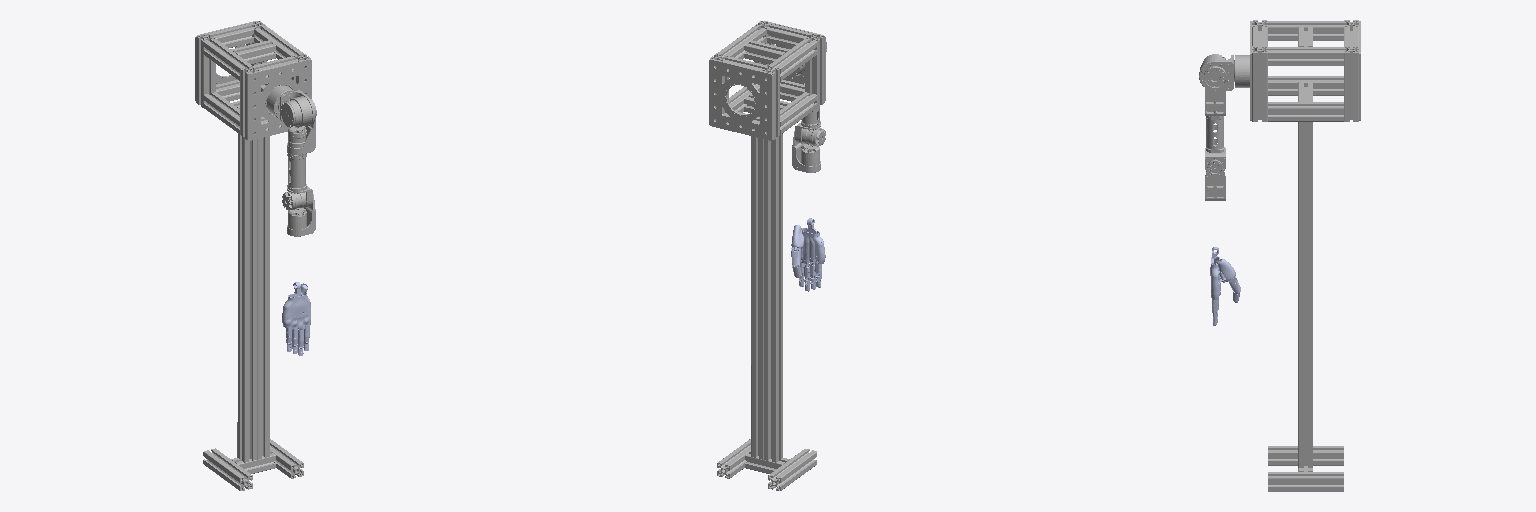
--- What the picture shows (computed from the rendered views, not written in the file) ---
3 views of the same robot in one strip: view 1: azimuth 30°, elevation 25°; view 2: azimuth 150°, elevation 25°; view 3: azimuth 270°, elevation 25° (orthographic).
Robot: sixArmHand — 22 links, 21 joints (21 revolute); root link base_link; default pose: every joint at zero.
Visible links, largest first — view 1: base_link, shoulderYaw_Link, shoulderPitch_Link, wristPitch_Link, shoulderRoll_Link, elbowRoll_Link; view 2: base_link, shoulderYaw_Link, elbowRoll_Link, wristPitch_Link; view 3: base_link, shoulderRoll_Link, shoulderYaw_Link, elbowRoll_Link, shoulderPitch_Link.
Boxes of the visible links, <box> form: base_link: <box>195,21,311,490</box>; shoulderYaw_Link: <box>282,152,312,210</box>; shoulderPitch_Link: <box>280,90,314,127</box>; wristPitch_Link: <box>282,282,310,329</box>; shoulderRoll_Link: <box>287,99,316,154</box>; elbowRoll_Link: <box>287,194,315,236</box>; base_link: <box>709,21,825,490</box>; shoulderYaw_Link: <box>795,107,825,146</box>; elbowRoll_Link: <box>792,131,820,172</box>; wristPitch_Link: <box>801,218,825,264</box>; base_link: <box>1234,20,1360,491</box>; shoulderRoll_Link: <box>1204,66,1226,115</box>; shoulderYaw_Link: <box>1205,116,1225,170</box>; elbowRoll_Link: <box>1205,160,1225,200</box>; shoulderPitch_Link: <box>1199,54,1233,90</box>.
Size in the robot's own frame: 0.2001 by 0.425 by 1.27 metres.
21 mesh visuals loaded from 22 distinct referenced files (21 binary STL); not drawn: 1 (reference not matched to a file when rendering).

The robot description file, URDF, robot "sixArmHand":
<?xml version="1.0" encoding="utf-8"?>
<!-- This URDF was automatically created by SolidWorks to URDF Exporter! Originally created by Stephen Brawner ([email redacted]) 
     Commit Version: 1.5.1-0-g916b5db  Build Version: 1.5.7152.31018
     For more information, please see http://wiki.ros.org/sw_urdf_exporter -->
<robot
  name="sixArmHand">
  <link
    name="base_link">
    <inertial>
      <origin
        xyz="6.3562527179902E-05 -0.00590971793251037 0.843647614040915"
        rpy="0 0 0" />
      <mass
        value="10.6875075459949" />
      <inertia
        ixx="0.369166290134353"
        ixy="-1.09800431762322E-08"
        ixz="-2.65717180673806E-05"
        iyy="0.366929421492863"
        iyz="-4.40923295784043E-11"
        izz="0.0155303148832649" />
    </inertial>
    <visual>
      <origin
        xyz="0 0 0"
        rpy="0 0 0" />
      <geometry>
        <mesh
          filename="package://sixArmHand/meshes/base_link.STL" />
      </geometry>
      <material
        name="">
        <color
          rgba="0.752941176470588 0.752941176470588 0.752941176470588 1" />
      </material>
    </visual>
    <collision>
      <origin
        xyz="0 0 0"
        rpy="0 0 0" />
      <geometry>
        <mesh
          filename="package://sixArmHand/meshes/base_link.STL" />
      </geometry>
    </collision>
  </link>
  <link
    name="shoulderPitch_Link">
    <inertial>
      <origin
        xyz="0.00564619322967518 -0.0388011617673537 2.59837315486067E-06"
        rpy="0 0 0" />
      <mass
        value="0.46726632049004" />
      <inertia
        ixx="0.000399813771841688"
        ixy="3.18591804143914E-05"
        ixz="-5.46038795579012E-10"
        iyy="0.00028754222084699"
        iyz="1.36442767870995E-06"
        izz="0.000254117183590909" />
    </inertial>
    <visual>
      <origin
        xyz="0 0 0"
        rpy="0 0 0" />
      <geometry>
        <mesh
          filename="package://sixArmHand/meshes/shoulderPitch_Link.STL" />
      </geometry>
      <material
        name="">
        <color
          rgba="0.752941176470588 0.752941176470588 0.752941176470588 1" />
      </material>
    </visual>
    <collision>
      <origin
        xyz="0 0 0"
        rpy="0 0 0" />
      <geometry>
        <mesh
          filename="package://sixArmHand/meshes/shoulderPitch_Link.STL" />
      </geometry>
    </collision>
  </link>
  <joint
    name="shoulderPitch"
    type="revolute">
    <origin
      xyz="8.8679E-05 -0.185 1.18"
      rpy="0 0 0" />
    <parent
      link="base_link" />
    <child
      link="shoulderPitch_Link" />
    <axis
      xyz="0 -1 0" />
    <limit
      lower="0"
      upper="0"
      effort="0"
      velocity="0" />
  </joint>
  <link
    name="shoulderRoll_Link">
    <inertial>
      <origin
        xyz="-0.0199126166365459 2.89601151149954E-05 -0.0740087713535413"
        rpy="0 0 0" />
      <mass
        value="0.419772107473911" />
      <inertia
        ixx="0.000433353050610292"
        ixy="-2.69038724505281E-07"
        ixz="-6.24263594181734E-05"
        iyy="0.000408481342435734"
        iyz="-1.66550940469567E-08"
        izz="0.000192251180848283" />
    </inertial>
    <visual>
      <origin
        xyz="0 0 0"
        rpy="0 0 0" />
      <geometry>
        <mesh
          filename="package://sixArmHand/meshes/shoulderRoll_Link.STL" />
      </geometry>
      <material
        name="">
        <color
          rgba="0.752941176470588 0.752941176470588 0.752941176470588 1" />
      </material>
    </visual>
    <collision>
      <origin
        xyz="0 0 0"
        rpy="0 0 0" />
      <geometry>
        <mesh
          filename="package://sixArmHand/meshes/shoulderRoll_Link.STL" />
      </geometry>
    </collision>
  </link>
  <joint
    name="shoulderRoll"
    type="revolute">
    <origin
      xyz="0.035 -0.052 0"
      rpy="0 0 0" />
    <parent
      link="shoulderPitch_Link" />
    <child
      link="shoulderRoll_Link" />
    <axis
      xyz="-1 0 0" />
    <limit
      lower="0"
      upper="0"
      effort="0"
      velocity="0" />
  </joint>
  <link
    name="shoulderYaw_Link">
    <inertial>
      <origin
        xyz="0.00656055179830629 2.90440103517531E-06 -0.10861093303565"
        rpy="0 0 0" />
      <mass
        value="0.403452087830578" />
      <inertia
        ixx="0.000244599346494787"
        ixy="1.67313795390288E-08"
        ixz="8.78933058031097E-06"
        iyy="0.000203262269064636"
        iyz="-7.30893918984527E-07"
        izz="0.000136352484194931" />
    </inertial>
    <visual>
      <origin
        xyz="0 0 0"
        rpy="0 0 0" />
      <geometry>
        <mesh
          filename="package://sixArmHand/meshes/shoulderYaw_Link.STL" />
      </geometry>
      <material
        name="">
        <color
          rgba="0.752941176470588 0.752941176470588 0.752941176470588 1" />
      </material>
    </visual>
    <collision>
      <origin
        xyz="0 0 0"
        rpy="0 0 0" />
      <geometry>
        <mesh
          filename="package://sixArmHand/meshes/shoulderYaw_Link.STL" />
      </geometry>
    </collision>
  </link>
  <joint
    name="shoulderYaw"
    type="revolute">
    <origin
      xyz="-0.035009 0 -0.116"
      rpy="0 0 0" />
    <parent
      link="shoulderRoll_Link" />
    <child
      link="shoulderYaw_Link" />
    <axis
      xyz="0 0 -1" />
    <limit
      lower="0"
      upper="0"
      effort="0"
      velocity="0" />
  </joint>
  <link
    name="elbowRoll_Link">
    <inertial>
      <origin
        xyz="-0.00738820409777829 -1.00321901477796E-06 -0.0593095691808454"
        rpy="0 0 0" />
      <mass
        value="0.151796397464374" />
      <inertia
        ixx="0.000189801415883418"
        ixy="-3.17669130469068E-10"
        ixz="-3.78850276737954E-05"
        iyy="0.000182437215525365"
        iyz="-1.37670316430067E-09"
        izz="8.44118119449699E-05" />
    </inertial>
    <visual>
      <origin
        xyz="0 0 0"
        rpy="0 0 0" />
      <geometry>
        <mesh
          filename="package://sixArmHand/meshes/elbowRoll_Link.STL" />
      </geometry>
      <material
        name="">
        <color
          rgba="0.752941176470588 0.752941176470588 0.752941176470588 1" />
      </material>
    </visual>
    <collision>
      <origin
        xyz="0 0 0"
        rpy="0 0 0" />
      <geometry>
        <mesh
          filename="package://sixArmHand/meshes/elbowRoll_Link.STL" />
      </geometry>
    </collision>
  </link>
  <joint
    name="elbowRoll"
    type="revolute">
    <origin
      xyz="0.034989 0 -0.144"
      rpy="0 0 0" />
    <parent
      link="shoulderYaw_Link" />
    <child
      link="elbowRoll_Link" />
    <axis
      xyz="-1 0 0" />
    <limit
      lower="0"
      upper="0"
      effort="0"
      velocity="0" />
  </joint>
  <link
    name="wristYaw_Link">
    <inertial>
      <origin
        xyz="-0.0110072042858961 9.00744748022486E-06 -0.0919568730668572"
        rpy="0 0 0" />
      <mass
        value="0.335351440910377" />
      <inertia
        ixx="0.000196408493546082"
        ixy="6.85439502098526E-08"
        ixz="-6.68611866426507E-07"
        iyy="0.000192751420074017"
        iyz="4.5521068979922E-08"
        izz="0.000114531535457464" />
    </inertial>
    <visual>
      <origin
        xyz="0 0 0"
        rpy="0 0 0" />
      <geometry>
        <mesh
          filename="package://sixArmHand/meshes/wristYaw_Link.STL" />
      </geometry>
      <material
        name="">
        <color
          rgba="0.752941176470588 0.752941176470588 0.752941176470588 1" />
      </material>
    </visual>
    <collision>
      <origin
        xyz="0 0 0"
        rpy="0 0 0" />
      <geometry>
        <mesh
          filename="package://sixArmHand/meshes/wristYaw_Link.STL" />
      </geometry>
    </collision>
  </link>
  <joint
    name="wristYaw"
    type="revolute">
    <origin
      xyz="-0.035008 0 -0.101"
      rpy="0 0 0" />
    <parent
      link="elbowRoll_Link" />
    <child
      link="wristYaw_Link" />
    <axis
      xyz="0 0 1" />
    <limit
      lower="0"
      upper="0"
      effort="0"
      velocity="0" />
  </joint>
  <link
    name="wristPitch_Link">
    <inertial>
      <origin
        xyz="0.000861733289080682 0.0016812764550127 -0.0745105520843234"
        rpy="0 0 0" />
      <mass
        value="0.0799816292892163" />
      <inertia
        ixx="2.50894522854529E-05"
        ixy="-1.27452216950587E-07"
        ixz="1.3290884331058E-06"
        iyy="3.68917834676378E-05"
        iyz="-3.66388617266229E-09"
        izz="1.4492968393251E-05" />
    </inertial>
    <visual>
      <origin
        xyz="0 0 0"
        rpy="0 0 0" />
      <geometry>
        <mesh
          filename="package://sixArmHand/meshes/wristPitch_Link.STL" />
      </geometry>
      <material
        name="">
        <color
          rgba="0.792156862745098 0.819607843137255 0.933333333333333 1" />
      </material>
    </visual>
    <collision>
      <origin
        xyz="0 0 0"
        rpy="0 0 0" />
      <geometry>
        <mesh
          filename="package://sixArmHand/meshes/wristPitch_Link.STL" />
      </geometry>
    </collision>
  </link>
  <joint
    name="wristPitch"
    type="revolute">
    <origin
      xyz="-1.1949E-05 0 -0.159"
      rpy="0 0 0" />
    <parent
      link="wristYaw_Link" />
    <child
      link="wristPitch_Link" />
    <axis
      xyz="-1 0 0" />
    <limit
      lower="0"
      upper="0"
      effort="0"
      velocity="0" />
  </joint>
  <link
    name="CMCXX_Link">
    <inertial>
      <origin
        xyz="-0.00686726816752589 0.0140780721129675 0.00981142675345359"
        rpy="0 0 0" />
      <mass
        value="0.024499897749101" />
      <inertia
        ixx="5.53070326477826E-06"
        ixy="9.08262139239753E-08"
        ixz="-1.29518804840443E-07"
        iyy="4.63806899598326E-06"
        iyz="9.03892420528738E-07"
        izz="1.75455470557498E-06" />
    </inertial>
    <visual>
      <origin
        xyz="0 0 0"
        rpy="0 0 0" />
      <geometry>
        <mesh
          filename="package://sixArmHand/meshes/CMCXX_Link.STL" />
      </geometry>
      <material
        name="">
        <color
          rgba="0.792156862745098 0.819607843137255 0.933333333333333 1" />
      </material>
    </visual>
    <collision>
      <origin
        xyz="0 0 0"
        rpy="0 0 0" />
      <geometry>
        <mesh
          filename="package://sixArmHand/meshes/CMCXX_Link.STL" />
      </geometry>
    </collision>
  </link>
  <joint
    name="CMCXX"
    type="revolute">
    <origin
      xyz="0.029304 0.018361 -0.06071"
      rpy="0.2618 0.17461 0" />
    <parent
      link="wristPitch_Link" />
    <child
      link="CMCXX_Link" />
    <axis
      xyz="0 0 -1" />
    <limit
      lower="0"
      upper="0"
      effort="0"
      velocity="0" />
  </joint>
  <link
    name="MCXX_Link">
    <inertial>
      <origin
        xyz="-0.0194043184012659 0.00700214256667242 -6.74830684764816E-05"
        rpy="0 0 0" />
      <mass
        value="0.011754229849431" />
      <inertia
        ixx="7.29057624653911E-07"
        ixy="5.00698001995572E-07"
        ixz="7.23401453610666E-09"
        iyy="1.57194618143418E-06"
        iyz="-3.24812131783767E-09"
        izz="1.63912335390482E-06" />
    </inertial>
    <visual>
      <origin
        xyz="0 0 0"
        rpy="0 0 0" />
      <geometry>
        <mesh
          filename="package://sixArmHand/meshes/MCXX_Link.STL" />
      </geometry>
      <material
        name="">
        <color
          rgba="0.792156862745098 0.819607843137255 0.933333333333333 1" />
      </material>
    </visual>
    <collision>
      <origin
        xyz="0 0 0"
        rpy="0 0 0" />
      <geometry>
        <mesh
          filename="package://sixArmHand/meshes/MCXX_Link.STL" />
      </geometry>
    </collision>
  </link>
  <joint
    name="MCXX"
    type="revolute">
    <origin
      xyz="-0.0071297 0.020958 -0.016239"
      rpy="-1.5708 -1.3043 1.7628" />
    <parent
      link="CMCXX_Link" />
    <child
      link="MCXX_Link" />
    <axis
      xyz="0 0 -1" />
    <limit
      lower="0"
      upper="0"
      effort="0"
      velocity="0" />
  </joint>
  <link
    name="DIPXX_Link">
    <inertial>
      <origin
        xyz="0.0175635726771348 -0.00214075595633695 -0.000834098286775109"
        rpy="0 0 0" />
      <mass
        value="0.00414583645243157" />
      <inertia
        ixx="1.34865192726364E-07"
        ixy="2.15174090959469E-08"
        ixz="-5.21798695756263E-09"
        iyy="4.1571728795326E-07"
        iyz="2.77385730813226E-10"
        izz="3.18396659804521E-07" />
    </inertial>
    <visual>
      <origin
        xyz="0 0 0"
        rpy="0 0 0" />
      <geometry>
        <mesh
          filename="package://sixArmHand/meshes/DIPXX_Link.STL" />
      </geometry>
      <material
        name="">
        <color
          rgba="0.792156862745098 0.819607843137255 0.933333333333333 1" />
      </material>
    </visual>
    <collision>
      <origin
        xyz="0 0 0"
        rpy="0 0 0" />
      <geometry>
        <mesh
          filename="package://sixArmHand/meshes/DIPXX_Link.STL" />
      </geometry>
    </collision>
  </link>
  <joint
    name="DIPXX"
    type="revolute">
    <origin
      xyz="-0.039877 0.013184 -0.00075"
      rpy="3.1416 0 -3.1416" />
    <parent
      link="MCXX_Link" />
    <child
      link="DIPXX_Link" />
    <axis
      xyz="0 0 -1" />
    <limit
      lower="0"
      upper="0"
      effort="0"
      velocity="0" />
  </joint>
  <link
    name="MCPFirstPitch_Link">
    <inertial>
      <origin
        xyz="-3.5994720111298E-05 0.000558365941395605 -0.0209824876083927"
        rpy="0 0 0" />
      <mass
        value="0.00422294438972412" />
      <inertia
        ixx="4.20193534270754E-07"
        ixy="-7.07215637016003E-10"
        ixz="2.48143462565004E-09"
        iyy="4.49745859832904E-07"
        iyz="-1.19967170913161E-08"
        izz="9.18449817266635E-08" />
    </inertial>
    <visual>
      <origin
        xyz="0 0 0"
        rpy="0 0 0" />
      <geometry>
        <mesh
          filename="package://sixArmHand/meshes/MCPFirstPitch_Link.STL" />
      </geometry>
      <material
        name="">
        <color
          rgba="0.792156862745098 0.819607843137255 0.933333333333333 1" />
      </material>
    </visual>
    <collision>
      <origin
        xyz="0 0 0"
        rpy="0 0 0" />
      <geometry>
        <mesh
          filename="package://sixArmHand/meshes/MCPFirstPitch_Link.STL" />
      </geometry>
    </collision>
  </link>
  <joint
    name="MCPFirstPitch"
    type="revolute">
    <origin
      xyz="0.028991 0 -0.117"
      rpy="0 0 0" />
    <parent
      link="wristPitch_Link" />
    <child
      link="MCPFirstPitch_Link" />
    <axis
      xyz="1 0 0" />
    <limit
      lower="0"
      upper="0"
      effort="0"
      velocity="0" />
  </joint>
  <link
    name="PIPFirstPitch_Link">
    <inertial>
      <origin
        xyz="4.78315139002677E-06 -0.000498217696923819 -0.00869400245624247"
        rpy="0 0 0" />
      <mass
        value="0.00215674304641878" />
      <inertia
        ixx="8.60904960368894E-08"
        ixy="2.6722587409329E-12"
        ixz="-1.80926938244238E-11"
        iyy="9.58672201831221E-08"
        iyz="1.72814058993956E-09"
        izz="4.3245271581415E-08" />
    </inertial>
    <visual>
      <origin
        xyz="0 0 0"
        rpy="0 0 0" />
      <geometry>
        <mesh
          filename="package://sixArmHand/meshes/PIPFirstPitch_Link.STL" />
      </geometry>
      <material
        name="">
        <color
          rgba="0.792156862745098 0.819607843137255 0.933333333333333 1" />
      </material>
    </visual>
    <collision>
      <origin
        xyz="0 0 0"
        rpy="0 0 0" />
      <geometry>
        <mesh
          filename="package://sixArmHand/meshes/PIPFirstPitch_Link.STL" />
      </geometry>
    </collision>
  </link>
  <joint
    name="PIPFirstPitch"
    type="revolute">
    <origin
      xyz="0 0.00044993 -0.039997"
      rpy="0 0 0" />
    <parent
      link="MCPFirstPitch_Link" />
    <child
      link="PIPFirstPitch_Link" />
    <axis
      xyz="-1 0 0" />
    <limit
      lower="0"
      upper="0"
      effort="0"
      velocity="0" />
  </joint>
  <link
    name="DIPFirstPitch_Link">
    <inertial>
      <origin
        xyz="-9.27453661033611E-07 -0.000508218924932802 -0.00863632266206432"
        rpy="0 0 0" />
      <mass
        value="0.00149494074524285" />
      <inertia
        ixx="6.41872663918503E-08"
        ixy="5.06726148144377E-12"
        ixz="-2.13884665551903E-13"
        iyy="7.82170719915641E-08"
        iyz="9.61540568787346E-10"
        izz="2.58321536074877E-08" />
    </inertial>
    <visual>
      <origin
        xyz="0 0 0"
        rpy="0 0 0" />
      <geometry>
        <mesh
          filename="package://sixArmHand/meshes/DIPFirstPitch_Link.STL" />
      </geometry>
      <material
        name="">
        <color
          rgba="0.792156862745098 0.819607843137255 0.933333333333333 1" />
      </material>
    </visual>
    <collision>
      <origin
        xyz="0 0 0"
        rpy="0 0 0" />
      <geometry>
        <mesh
          filename="package://sixArmHand/meshes/DIPFirstPitch_Link.STL" />
      </geometry>
    </collision>
  </link>
  <joint
    name="DIPFirstPitch"
    type="revolute">
    <origin
      xyz="0 0.00041158 -0.022996"
      rpy="0 0 0" />
    <parent
      link="PIPFirstPitch_Link" />
    <child
      link="DIPFirstPitch_Link" />
    <axis
      xyz="-1 0 0" />
    <limit
      lower="0"
      upper="0"
      effort="0"
      velocity="0" />
  </joint>
  <link
    name="MCPSecondPitch_Link">
    <inertial>
      <origin
        xyz="-3.5994825934001E-05 0.000284140611486794 -0.0209879920475703"
        rpy="0 0 0" />
      <mass
        value="0.00422294447928706" />
      <inertia
        ixx="4.20193571981658E-07"
        ixy="-6.74763708561799E-10"
        ixz="2.49046429643885E-09"
        iyy="4.49371276863409E-07"
        iyz="-1.66689985535371E-08"
        izz="9.22196055569579E-08" />
    </inertial>
    <visual>
      <origin
        xyz="0 0 0"
        rpy="0 0 0" />
      <geometry>
        <mesh
          filename="package://sixArmHand/meshes/MCPSecondPitch_Link.STL" />
      </geometry>
      <material
        name="">
        <color
          rgba="0.792156862745098 0.819607843137255 0.933333333333333 1" />
      </material>
    </visual>
    <collision>
      <origin
        xyz="0 0 0"
        rpy="0 0 0" />
      <geometry>
        <mesh
          filename="package://sixArmHand/meshes/MCPSecondPitch_Link.STL" />
      </geometry>
    </collision>
  </link>
  <joint
    name="MCPSecondPitch"
    type="revolute">
    <origin
      xyz="0.01099 0 -0.127"
      rpy="0 0 0" />
    <parent
      link="wristPitch_Link" />
    <child
      link="MCPSecondPitch_Link" />
    <axis
      xyz="1 0 0" />
    <limit
      lower="0"
      upper="0"
      effort="0"
      velocity="0" />
  </joint>
  <link
    name="PIPSecondPitch_Link">
    <inertial>
      <origin
        xyz="4.78340618327577E-06 -0.000498217725054179 -0.00869400289720274"
        rpy="0 0 0" />
      <mass
        value="0.00215674315990334" />
      <inertia
        ixx="8.6090500631659E-08"
        ixy="2.67444648982479E-12"
        ixz="-1.808980999725E-11"
        iyy="9.58672259532435E-08"
        iyz="1.72813837586447E-09"
        izz="4.32452761012241E-08" />
    </inertial>
    <visual>
      <origin
        xyz="0 0 0"
        rpy="0 0 0" />
      <geometry>
        <mesh
          filename="package://sixArmHand/meshes/PIPSecondPitch_Link.STL" />
      </geometry>
      <material
        name="">
        <color
          rgba="0.792156862745098 0.819607843137255 0.933333333333333 1" />
      </material>
    </visual>
    <collision>
      <origin
        xyz="0 0 0"
        rpy="0 0 0" />
      <geometry>
        <mesh
          filename="package://sixArmHand/meshes/PIPSecondPitch_Link.STL" />
      </geometry>
    </collision>
  </link>
  <joint
    name="PIPSecondPitch"
    type="revolute">
    <origin
      xyz="0 -7.2753E-05 -0.04"
      rpy="0 0 0" />
    <parent
      link="MCPSecondPitch_Link" />
    <child
      link="PIPSecondPitch_Link" />
    <axis
      xyz="-1 0 0" />
    <limit
      lower="0"
      upper="0"
      effort="0"
      velocity="0" />
  </joint>
  <link
    name="DIPSecondPitch_Link">
    <inertial>
      <origin
        xyz="-9.27453660946875E-07 -0.000508218924699017 -0.00863632266205938"
        rpy="0 0 0" />
      <mass
        value="0.00149494074524285" />
      <inertia
        ixx="6.41872663918512E-08"
        ixy="5.06726148157971E-12"
        ixz="-2.13884665626898E-13"
        iyy="7.82170719915645E-08"
        iyz="9.61540568787026E-10"
        izz="2.5832153607487E-08" />
    </inertial>
    <visual>
      <origin
        xyz="0 0 0"
        rpy="0 0 0" />
      <geometry>
        <mesh
          filename="package://sixArmHand/meshes/DIPSecondPitch_Link.STL" />
      </geometry>
      <material
        name="">
        <color
          rgba="0.792156862745098 0.819607843137255 0.933333333333333 1" />
      </material>
    </visual>
    <collision>
      <origin
        xyz="0 0 0"
        rpy="0 0 0" />
      <geometry>
        <mesh
          filename="package://sixArmHand/meshes/DIPSecondPitch_Link.STL" />
      </geometry>
    </collision>
  </link>
  <joint
    name="DIPSecondPitch"
    type="revolute">
    <origin
      xyz="0 0.00041158 -0.022996"
      rpy="0 0 0" />
    <parent
      link="PIPSecondPitch_Link" />
    <child
      link="DIPSecondPitch_Link" />
    <axis
      xyz="-1 0 0" />
    <limit
      lower="0"
      upper="0"
      effort="0"
      velocity="0" />
  </joint>
  <link
    name="MCPThirdPitch_Link">
    <inertial>
      <origin
        xyz="-3.59947201113231E-05 0.000558365941430161 -0.0209824876083783"
        rpy="0 0 0" />
      <mass
        value="0.00422294438972405" />
      <inertia
        ixx="4.20193534270735E-07"
        ixy="-7.07215637015877E-10"
        ixz="2.48143462565172E-09"
        iyy="4.49745859832886E-07"
        iyz="-1.19967170913212E-08"
        izz="9.18449817266638E-08" />
    </inertial>
    <visual>
      <origin
        xyz="0 0 0"
        rpy="0 0 0" />
      <geometry>
        <mesh
          filename="package://sixArmHand/meshes/MCPThirdPitch_Link.STL" />
      </geometry>
      <material
        name="">
        <color
          rgba="0.792156862745098 0.819607843137255 0.933333333333333 1" />
      </material>
    </visual>
    <collision>
      <origin
        xyz="0 0 0"
        rpy="0 0 0" />
      <geometry>
        <mesh
          filename="package://sixArmHand/meshes/MCPThirdPitch_Link.STL" />
      </geometry>
    </collision>
  </link>
  <joint
    name="MCPThirdPitch"
    type="revolute">
    <origin
      xyz="-0.00700879270537467 0 -0.116999473609129"
      rpy="0 0 0" />
    <parent
      link="wristPitch_Link" />
    <child
      link="MCPThirdPitch_Link" />
    <axis
      xyz="1 0 0" />
    <limit
      lower="0"
      upper="0"
      effort="0"
      velocity="0" />
  </joint>
  <link
    name="PIPThirdPitch_Link">
    <inertial>
      <origin
        xyz="4.7815728599198E-06 -0.000498217579745386 -0.0086939995826098"
        rpy="0 0 0" />
      <mass
        value="0.00215674233408469" />
      <inertia
        ixx="8.60904657484076E-08"
        ixy="2.65945407217186E-12"
        ixz="-1.81117151826609E-11"
        iyy="9.58671819174496E-08"
        iyz="1.72815466220683E-09"
        izz="4.32452446499357E-08" />
    </inertial>
    <visual>
      <origin
        xyz="0 0 0"
        rpy="0 0 0" />
      <geometry>
        <mesh
          filename="package://sixArmHand/meshes/PIPThirdPitch_Link.STL" />
      </geometry>
      <material
        name="">
        <color
          rgba="0.792156862745098 0.819607843137255 0.933333333333333 1" />
      </material>
    </visual>
    <collision>
      <origin
        xyz="0 0 0"
        rpy="0 0 0" />
      <geometry>
        <mesh
          filename="package://sixArmHand/meshes/PIPThirdPitch_Link.STL" />
      </geometry>
    </collision>
  </link>
  <joint
    name="PIPThirdPitch"
    type="revolute">
    <origin
      xyz="0 0.00044993 -0.039997"
      rpy="0 0 0" />
    <parent
      link="MCPThirdPitch_Link" />
    <child
      link="PIPThirdPitch_Link" />
    <axis
      xyz="-1 0 0" />
    <limit
      lower="0"
      upper="0"
      effort="0"
      velocity="0" />
  </joint>
  <link
    name="DIPThirdPitch_Link">
    <inertial>
      <origin
        xyz="-9.27453660857537E-07 -0.000508218924755943 -0.00863632266206249"
        rpy="0 0 0" />
      <mass
        value="0.00149494074524283" />
      <inertia
        ixx="6.4187266391849E-08"
        ixy="5.06726148158765E-12"
        ixz="-2.13884665948821E-13"
        iyy="7.82170719915627E-08"
        iyz="9.61540568787658E-10"
        izz="2.58321536074867E-08" />
    </inertial>
    <visual>
      <origin
        xyz="0 0 0"
        rpy="0 0 0" />
      <geometry>
        <mesh
          filename="package://sixArmHand/meshes/DIPThirdPitch_Link.STL" />
      </geometry>
      <material
        name="">
        <color
          rgba="0.792156862745098 0.819607843137255 0.933333333333333 1" />
      </material>
    </visual>
    <collision>
      <origin
        xyz="0 0 0"
        rpy="0 0 0" />
      <geometry>
        <mesh
          filename="package://sixArmHand/meshes/DIPThirdPitch_Link.STL" />
      </geometry>
    </collision>
  </link>
  <joint
    name="DIPThirdPitch"
    type="revolute">
    <origin
      xyz="0 0.00041158 -0.022996"
      rpy="0 0 0" />
    <parent
      link="PIPThirdPitch_Link" />
    <child
      link="DIPThirdPitch_Link" />
    <axis
      xyz="-1 0 0" />
    <limit
      lower="0"
      upper="0"
      effort="0"
      velocity="0" />
  </joint>
  <link
    name="MCPFourthPitch_Link">
    <inertial>
      <origin
        xyz="-3.59943218010347E-05 0.00083272524861927 -0.0209733911034423"
        rpy="0 0 0" />
      <mass
        value="0.00422294431379341" />
      <inertia
        ixx="4.20193518935491E-07"
        ixy="-7.39573855135048E-10"
        ixz="2.47197735864419E-09"
        iyy="4.49998391653736E-07"
        iyz="-7.31241018481763E-09"
        izz="9.1592431962495E-08" />
    </inertial>
    <visual>
      <origin
        xyz="0 0 0"
        rpy="0 0 0" />
      <geometry>
        <mesh
          filename="package://sixArmHand/meshes/MCPFourthPitch_Link.STL" />
      </geometry>
      <material
        name="">
        <color
          rgba="0.792156862745098 0.819607843137255 0.933333333333333 1" />
      </material>
    </visual>
    <collision>
      <origin
        xyz="0 0 0"
        rpy="0 0 0" />
      <geometry>
        <mesh
          filename="package://sixArmHand/meshes/MCPFourthPitch_Link.STL" />
      </geometry>
    </collision>
  </link>
  <joint
    name="MCPFourthPitch"
    type="revolute">
    <origin
      xyz="-0.025008 0 -0.107"
      rpy="0 0 0" />
    <parent
      link="wristPitch_Link" />
    <child
      link="MCPFourthPitch_Link" />
    <axis
      xyz="1 0 0" />
    <limit
      lower="0"
      upper="0"
      effort="0"
      velocity="0" />
  </joint>
  <link
    name="PIPFourthPitch_Link">
    <inertial>
      <origin
        xyz="4.78120405220453E-06 -0.000498217559852132 -0.00869399884871536"
        rpy="0 0 0" />
      <mass
        value="0.0021567421655383" />
      <inertia
        ixx="8.60904580826341E-08"
        ixy="2.65655855870832E-12"
        ixz="-1.81167684111139E-11"
        iyy="9.58671723248921E-08"
        iyz="1.72815839657814E-09"
        izz="4.3245238535718E-08" />
    </inertial>
    <visual>
      <origin
        xyz="0 0 0"
        rpy="0 0 0" />
      <geometry>
        <mesh
          filename="package://sixArmHand/meshes/PIPFourthPitch_Link.STL" />
      </geometry>
      <material
        name="">
        <color
          rgba="0.792156862745098 0.819607843137255 0.933333333333333 1" />
      </material>
    </visual>
    <collision>
      <origin
        xyz="0 0 0"
        rpy="0 0 0" />
      <geometry>
        <mesh
          filename="package://sixArmHand/meshes/PIPFourthPitch_Link.STL" />
      </geometry>
    </collision>
  </link>
  <joint
    name="PIPFourthPitch"
    type="revolute">
    <origin
      xyz="0 0.000972979775446664 -0.0399881645155853"
      rpy="0 0 0" />
    <parent
      link="MCPFourthPitch_Link" />
    <child
      link="PIPFourthPitch_Link" />
    <axis
      xyz="-1 0 0" />
    <limit
      lower="0"
      upper="0"
      effort="0"
      velocity="0" />
  </joint>
  <link
    name="DIPFourthPitch_Link">
    <inertial>
      <origin
        xyz="-9.27453660964223E-07 -0.000508218924747089 -0.00863632266205805"
        rpy="0 0 0" />
      <mass
        value="0.00149494074524286" />
      <inertia
        ixx="6.41872663918508E-08"
        ixy="5.06726148138089E-12"
        ixz="-2.13884665419395E-13"
        iyy="7.82170719915644E-08"
        iyz="9.61540568787198E-10"
        izz="2.58321536074874E-08" />
    </inertial>
    <visual>
      <origin
        xyz="0 0 0"
        rpy="0 0 0" />
      <geometry>
        <mesh
          filename="package://sixArmHand/meshes/DIPFourthPitch_Link.STL" />
      </geometry>
      <material
        name="">
        <color
          rgba="0.792156862745098 0.819607843137255 0.933333333333333 1" />
      </material>
    </visual>
    <collision>
      <origin
        xyz="0 0 0"
        rpy="0 0 0" />
      <geometry>
        <mesh
          filename="package://sixArmHand/meshes/DIPFourthPitch_Link.STL" />
      </geometry>
    </collision>
  </link>
  <joint
    name="DIPFourthPitch"
    type="revolute">
    <origin
      xyz="0 0.00041158 -0.022996"
      rpy="0 0 0" />
    <parent
      link="PIPFourthPitch_Link" />
    <child
      link="DIPFourthPitch_Link" />
    <axis
      xyz="-1 0 0" />
    <limit
      lower="0"
      upper="0"
      effort="0"
      velocity="0" />
  </joint>
</robot>
